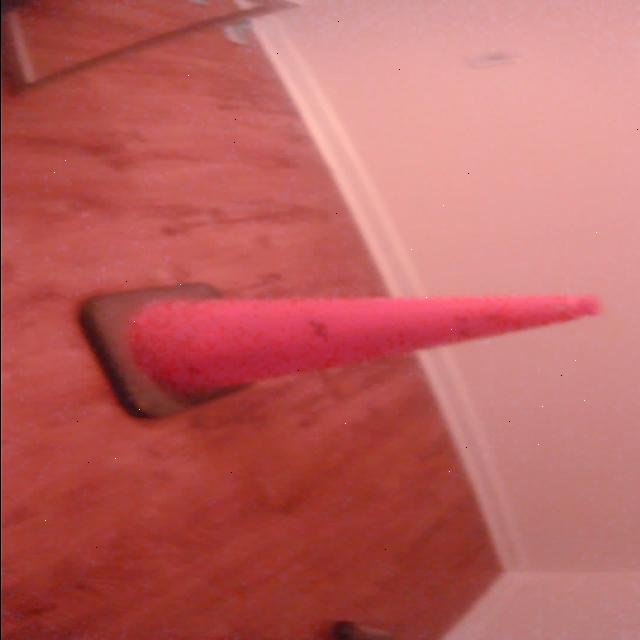traffic cone: (76, 278, 608, 426)
